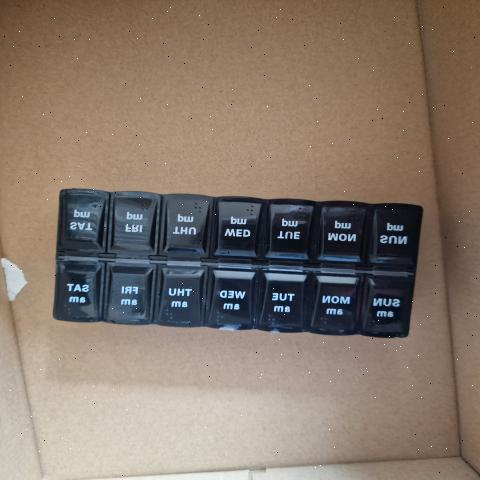FRI-am: (105, 266, 155, 323)
FRI-pm: (107, 192, 156, 249)
MON-am: (314, 272, 357, 332)
MON-pm: (319, 203, 362, 264)
SAT-am: (54, 260, 102, 320)
SAT-pm: (62, 192, 105, 244)
SUN-am: (364, 277, 407, 335)
SUN-pm: (369, 204, 418, 260)
THU-am: (158, 268, 204, 323)
THU-pm: (163, 198, 208, 251)
TUE-am: (259, 272, 309, 330)
TUE-pm: (266, 204, 314, 256)
WED-am: (206, 271, 256, 325)
WED-pm: (215, 199, 262, 253)
